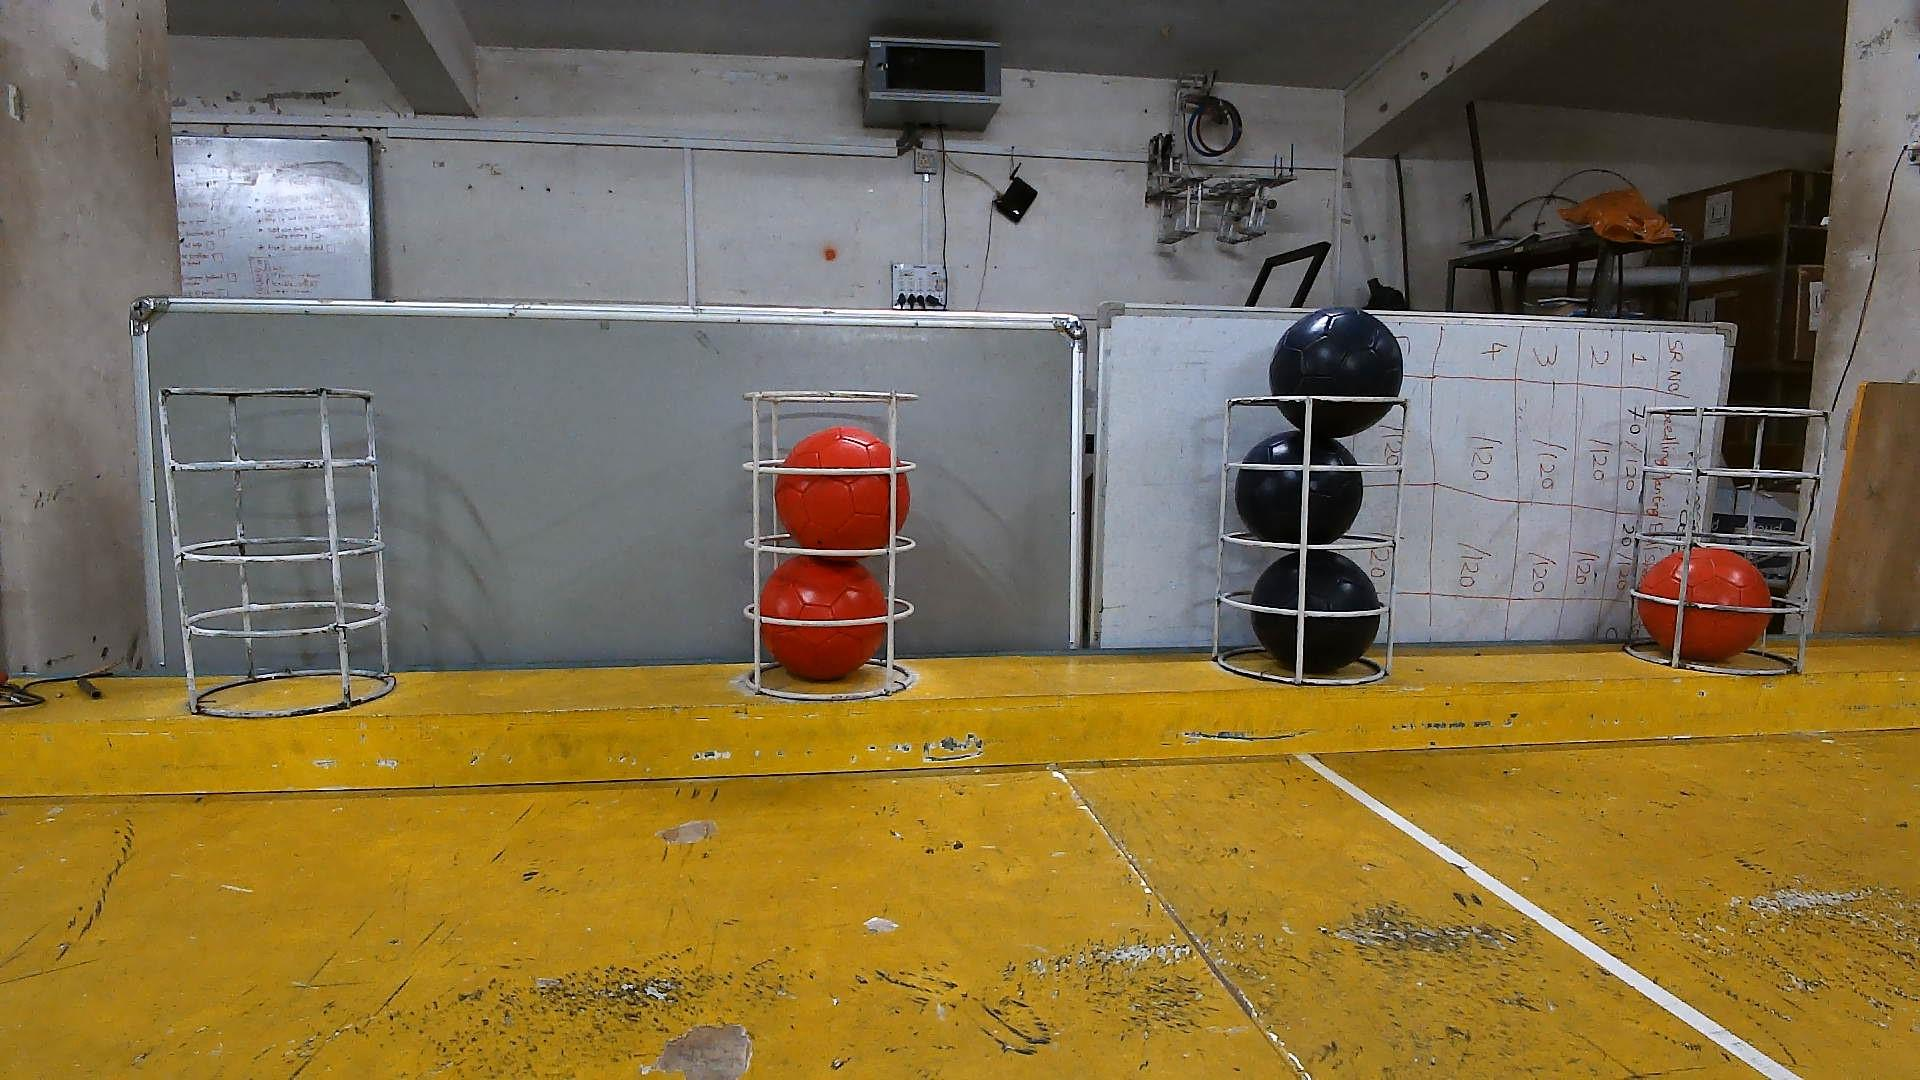dhoka: (1268, 308, 1402, 439), (1252, 548, 1384, 675), (1234, 431, 1365, 546)
laale: (772, 424, 911, 551), (757, 559, 885, 683), (1635, 548, 1770, 664)
